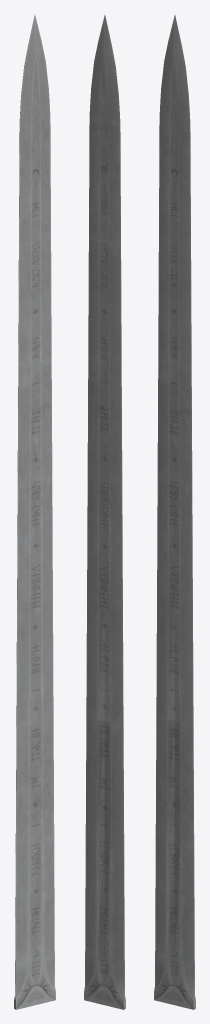
File: anduril_blade.fbx
3 views of the same model, side by side, from view 1: azimuth 30°, elevation 25°; view 2: azimuth 150°, elevation 25°; view 3: azimuth 330°, elevation 25° (orthographic).
Visible parts, largest first — view 1: anduril_blade; view 2: anduril_blade; view 3: anduril_blade.
Part boxes in pixels (x1,y1,x2,y2): anduril_blade: (14, 15, 55, 1009); anduril_blade: (84, 15, 125, 1009); anduril_blade: (154, 15, 195, 1009).
Size of the model in its own units: 0.0383 by 0.00314 by 0.9092.
Materials: 1 (1 with a texture image).
